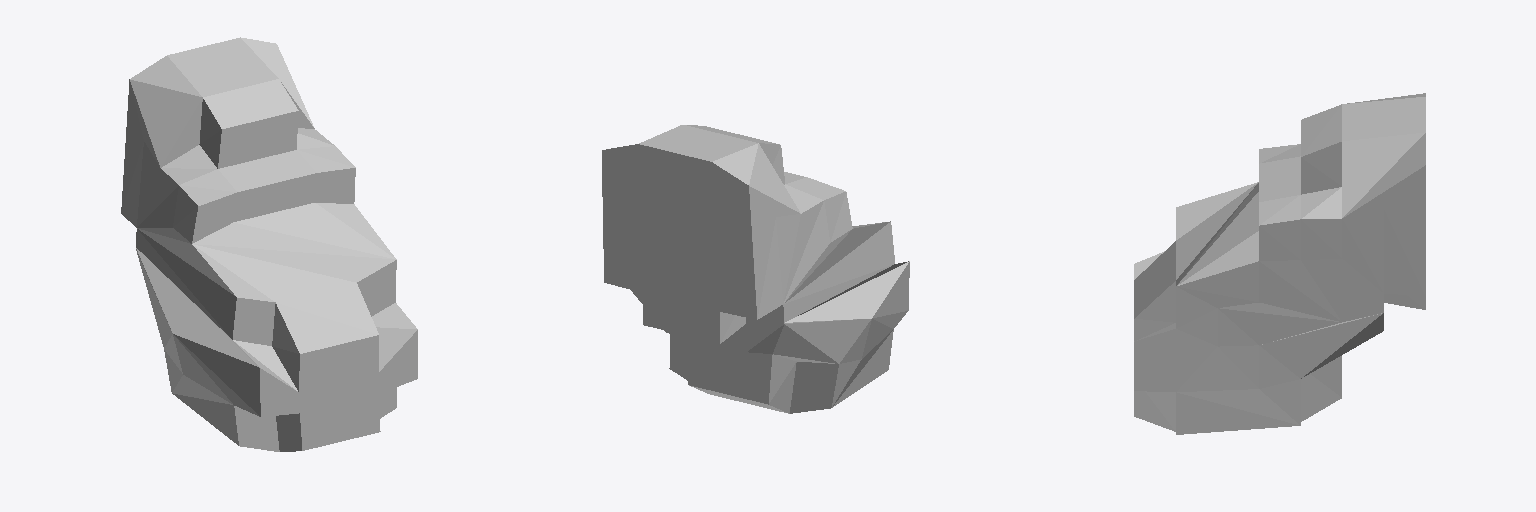
The model's file is TeleporterBot_LOD0-1.obj.
3 views of the same model, side by side, from view 1: azimuth 30°, elevation 25°; view 2: azimuth 150°, elevation 25°; view 3: azimuth 270°, elevation 25° (orthographic).
Parts seen in each view (by area): view 1: TeleporterBot_LOD0-1; view 2: TeleporterBot_LOD0-1; view 3: TeleporterBot_LOD0-1.
Part boxes in pixels (x1,y1,x2,y2): TeleporterBot_LOD0-1: (121,37,417,451); TeleporterBot_LOD0-1: (602,125,909,413); TeleporterBot_LOD0-1: (1134,93,1425,434).
Size of the model in its own units: 0.5201 by 0.8034 by 0.7.